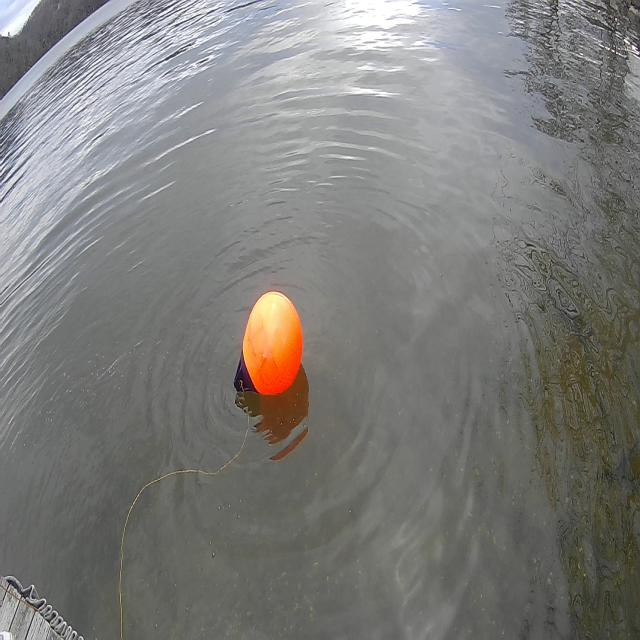Buoy: (238, 286, 306, 405)
